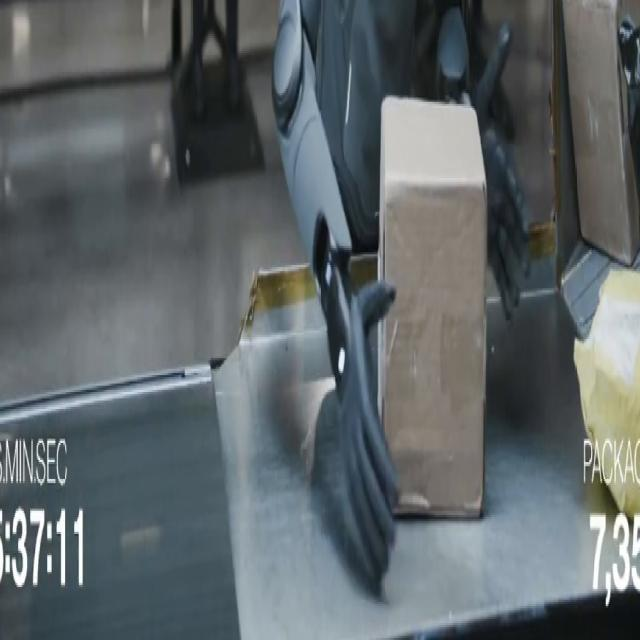package: (378, 98, 487, 517), (563, 0, 639, 264), (575, 270, 639, 517)
